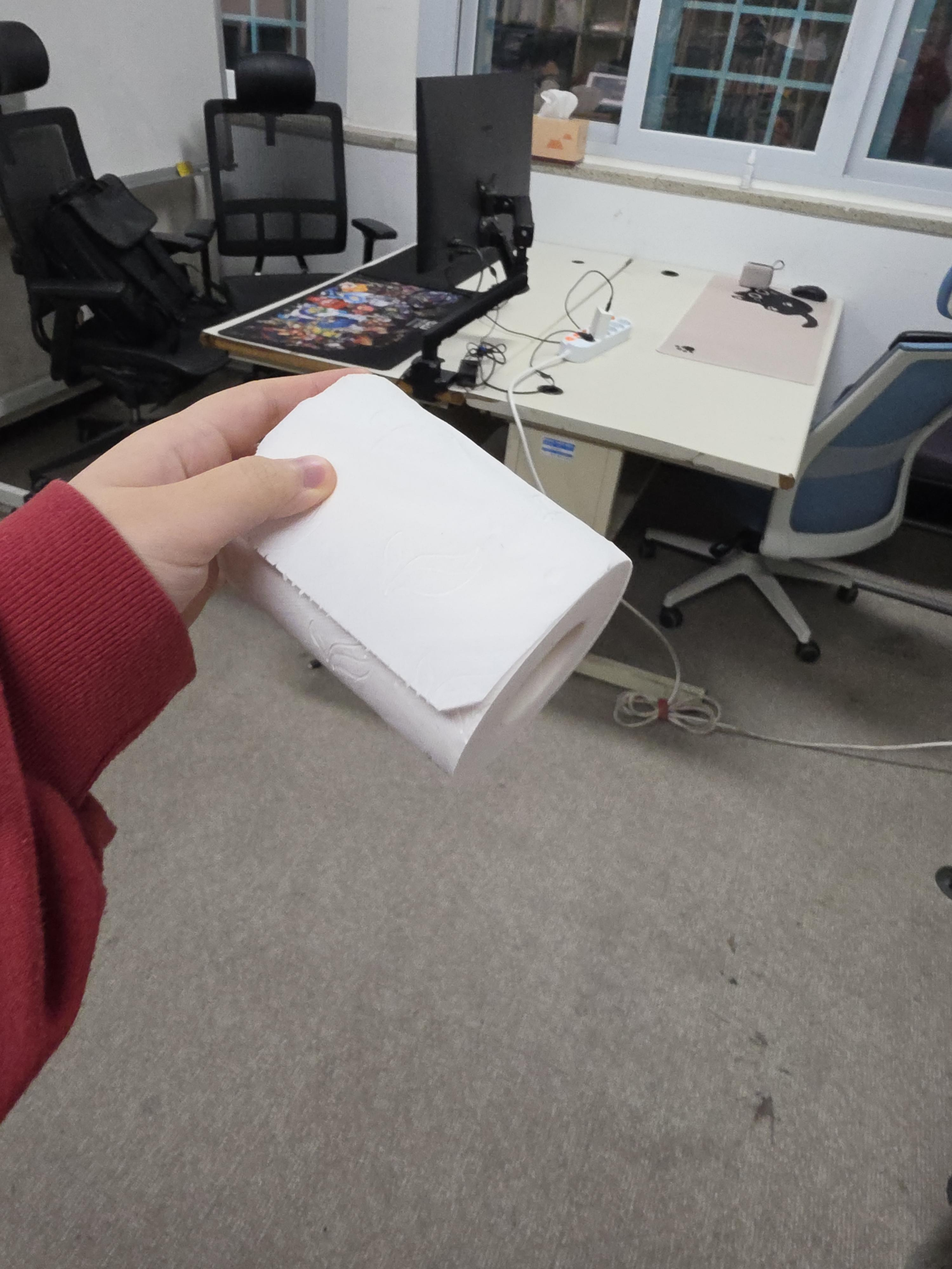tissue: (217, 372, 633, 777), (531, 89, 589, 164)
